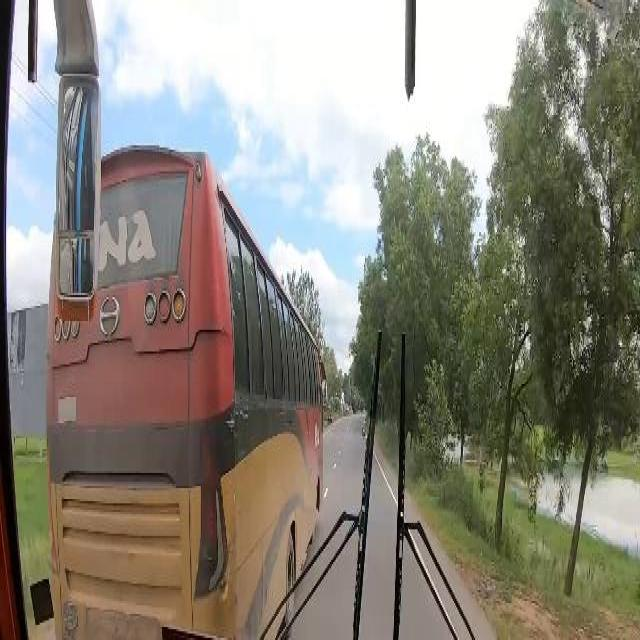bus: (45, 138, 328, 632)
motorbike: (360, 421, 364, 436)
